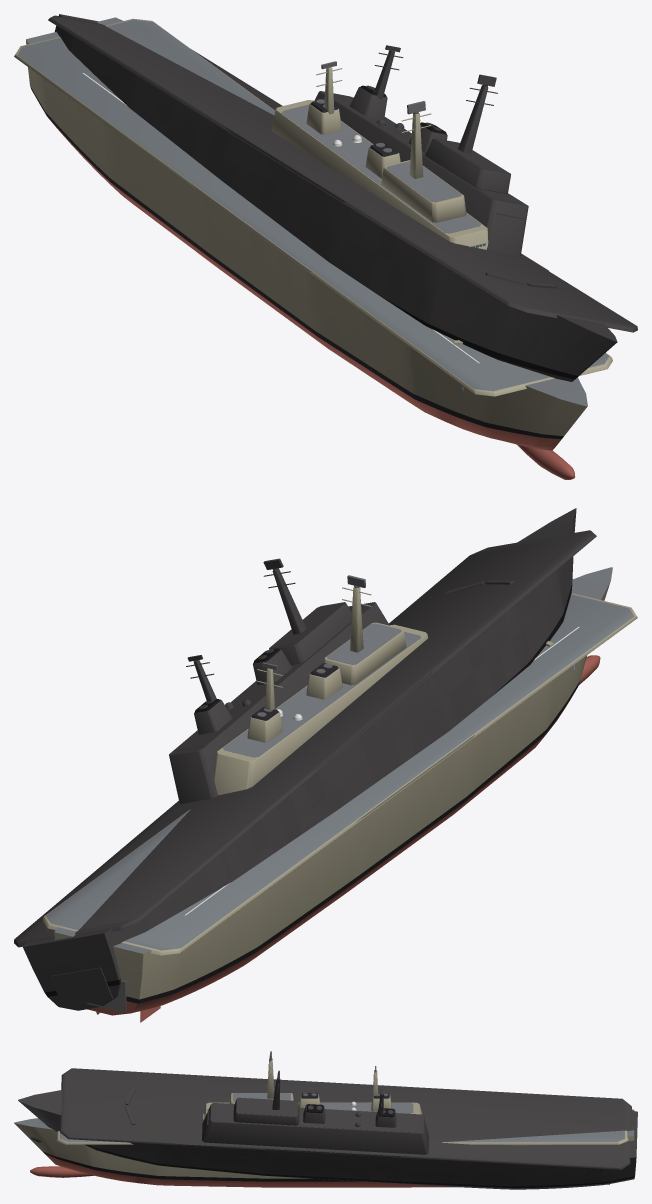
File: landingShip__mistral_class.glb
The picture shows the model from 3 angles, top to bottom: view 1: azimuth 30°, elevation 25°; view 2: azimuth 150°, elevation 25°; view 3: azimuth 270°, elevation 25°; orthographic projection. The views are drawn at different scales.
Visible parts, largest first — view 1: Hull_Mesh, Wreck; view 2: Wreck, Hull_Mesh; view 3: Wreck, Hull_Mesh.
Boxes of the visible parts, <box> form: Hull_Mesh: <box>14,17,612,479</box>; Wreck: <box>48,14,637,381</box>; Wreck: <box>14,508,596,1014</box>; Hull_Mesh: <box>42,567,637,1022</box>; Wreck: <box>18,1068,637,1189</box>; Hull_Mesh: <box>14,1059,634,1187</box>.
Size of what is drawn, in the model's own units: 46.25 by 52.03 by 209.
